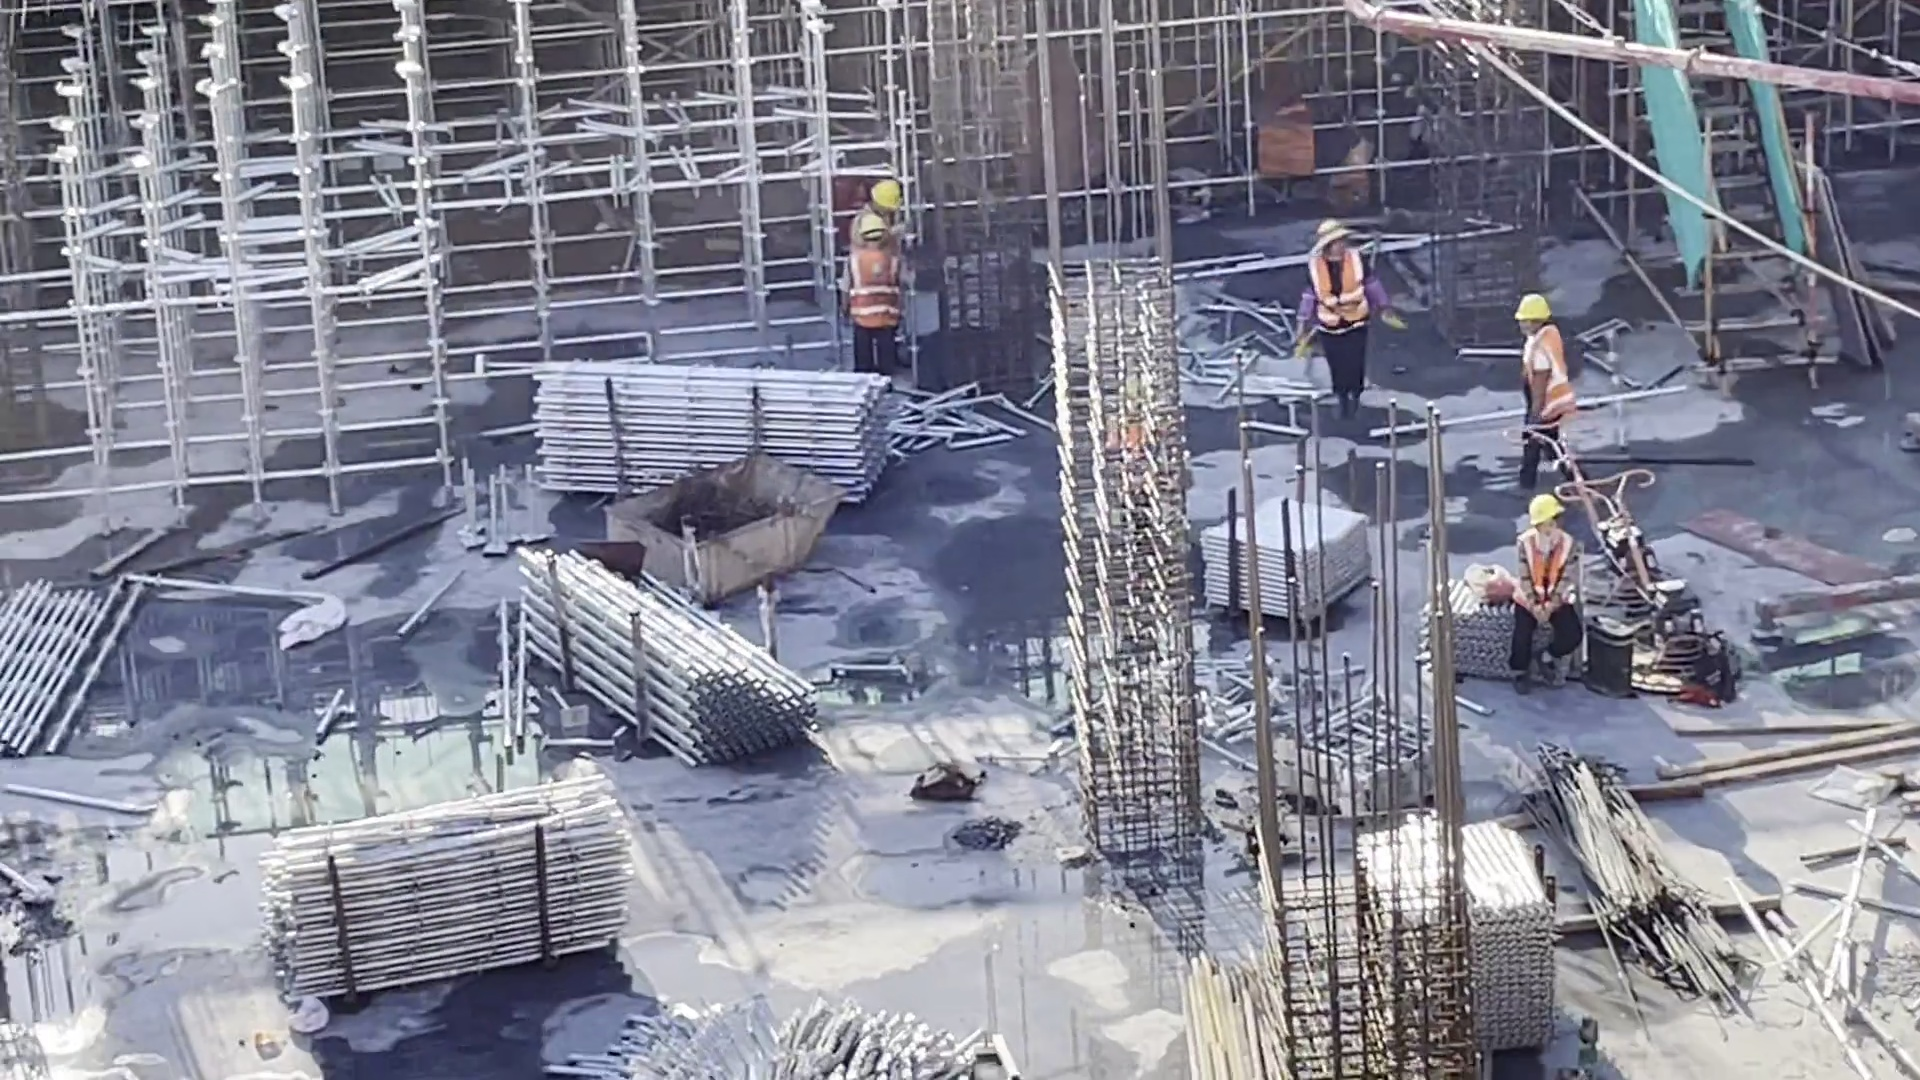helmet: (1528, 490, 1561, 521), (875, 184, 908, 213), (1519, 298, 1553, 323), (859, 217, 888, 241), (1309, 221, 1338, 240)
hopper: (628, 477, 839, 596)
person: (1503, 287, 1585, 491), (1296, 219, 1366, 439), (1508, 490, 1577, 699), (836, 217, 917, 382), (834, 182, 907, 274)
rebar: (1555, 754, 1724, 1000)
scaffold: (275, 808, 657, 966), (532, 367, 923, 491), (539, 556, 796, 733), (1364, 831, 1564, 1035), (631, 1000, 976, 1080), (1, 580, 145, 768), (1241, 509, 1384, 623), (1415, 605, 1521, 679)
vest: (1312, 265, 1369, 337), (1525, 338, 1570, 415), (1521, 541, 1573, 606), (853, 260, 893, 334)
